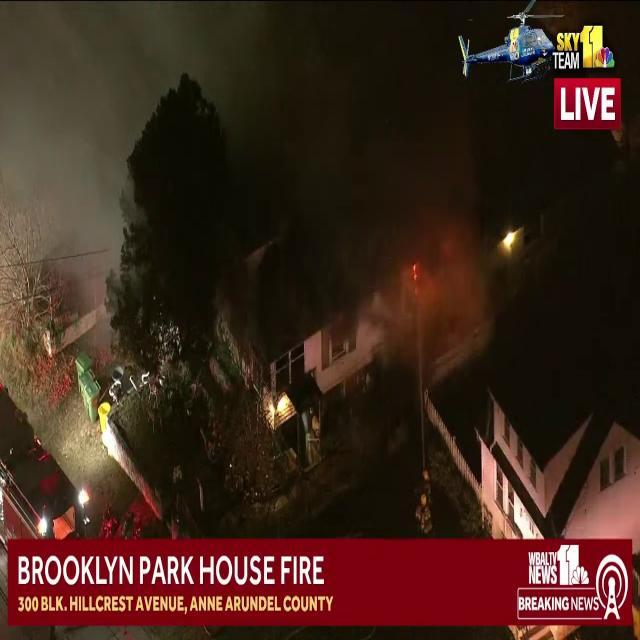Fire: (266, 380, 294, 433)
Smoke: (303, 0, 504, 368)
